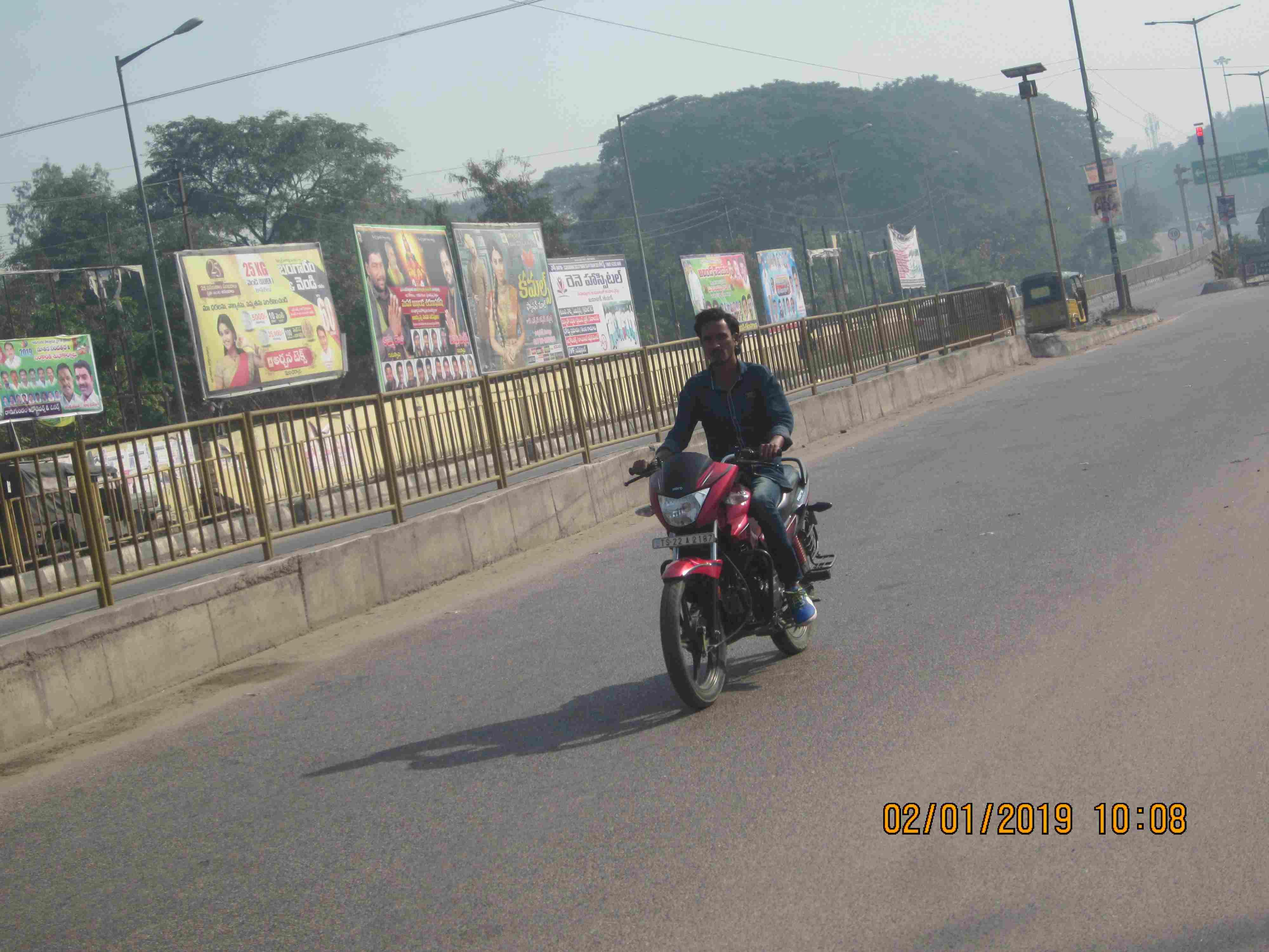plate: (648, 526, 727, 551)
